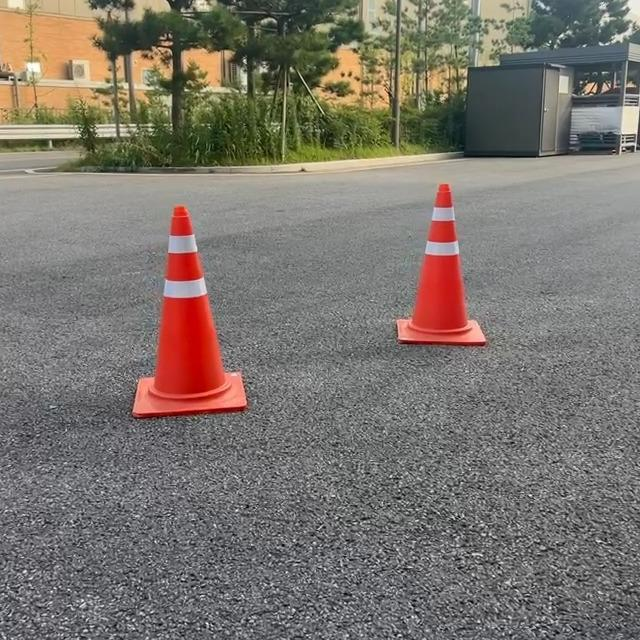fallen_object: (116, 182, 248, 510), (362, 159, 518, 394)
